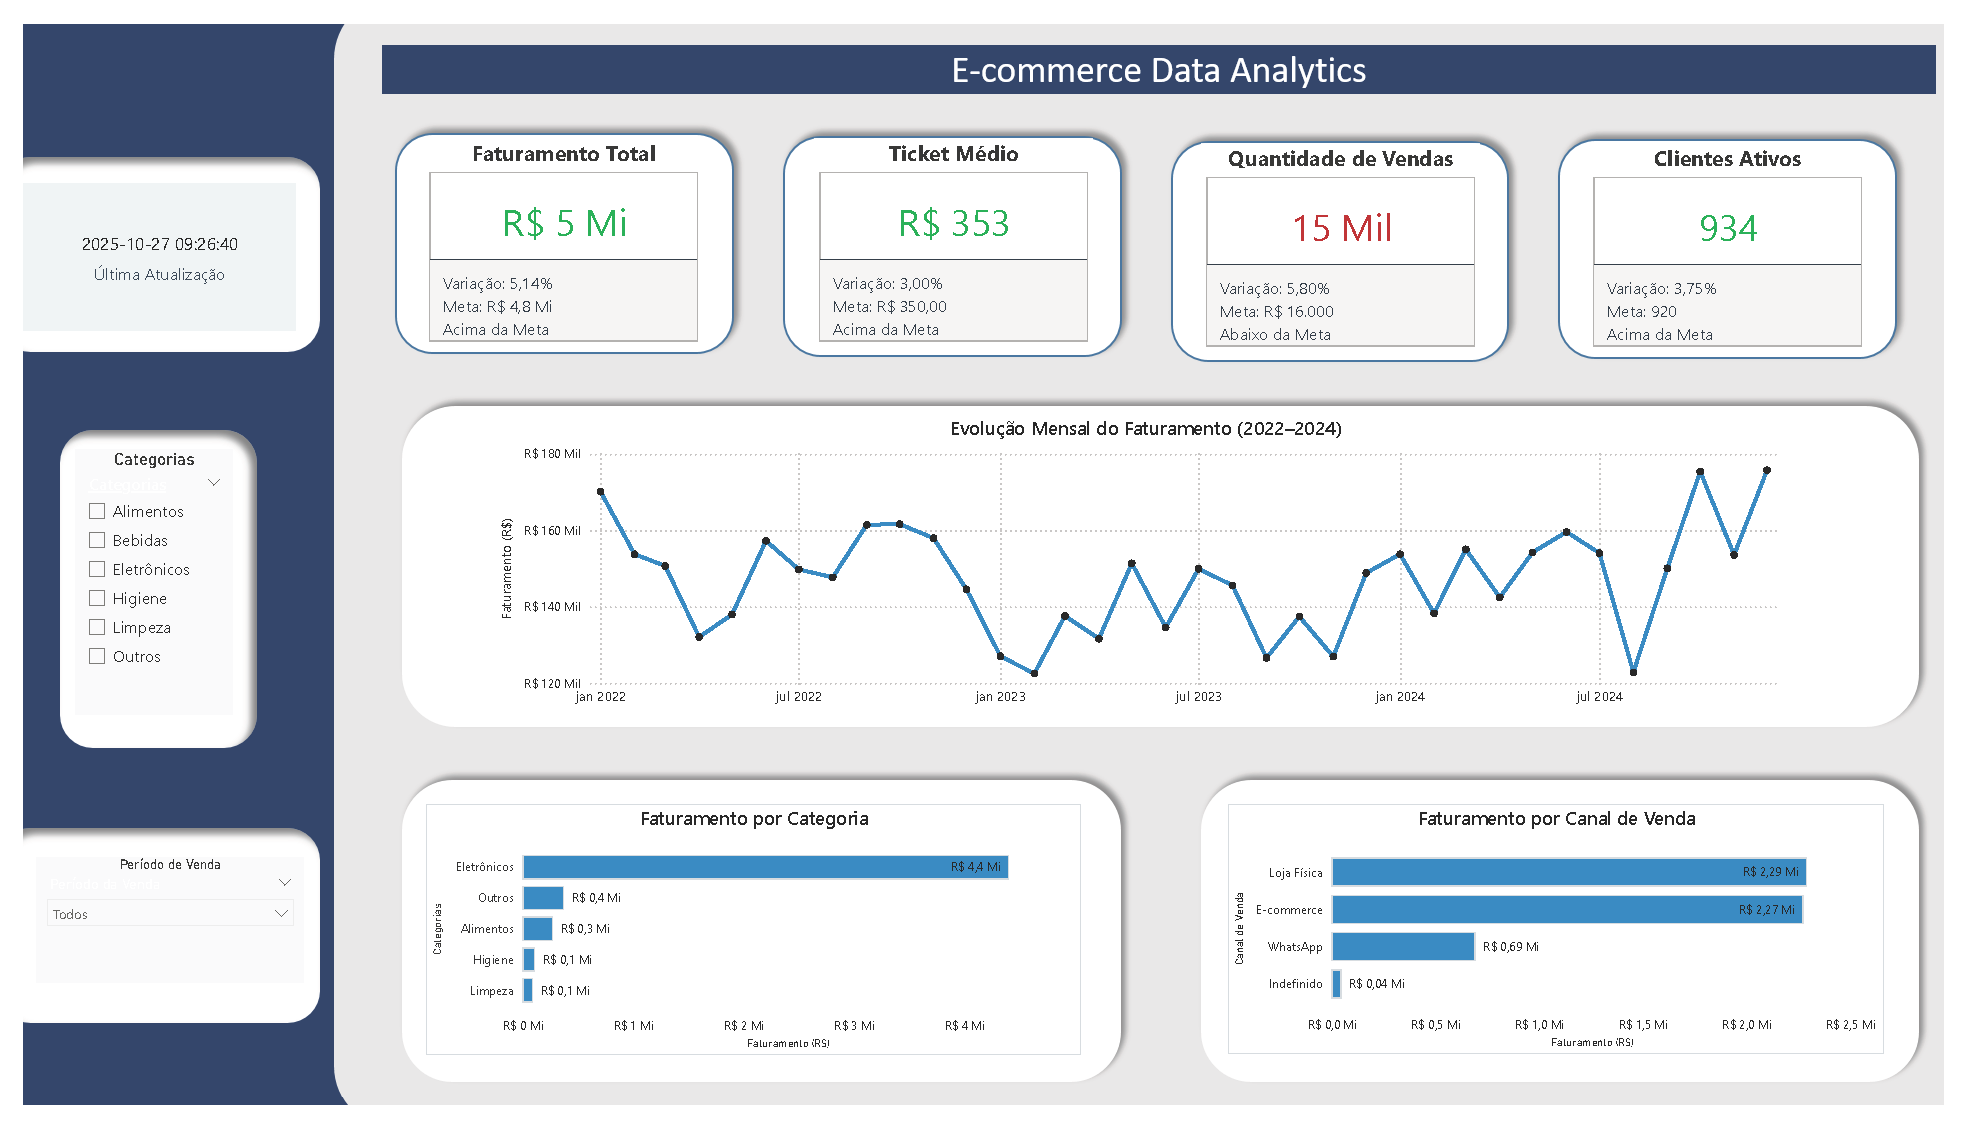

The dashboard page shown, as its layout file describes it:
{"tool":"powerbi","page":{"name":"Visão Geral","canvas":[1920,1080],"ordinal":0},"visuals":[{"type":"card","fields":{"Values":["Tabelas_Medidas.Última Atualização"]},"box":[12.5,152.5,272.5,147.5],"z":2000},{"type":"lineChart","title":"Evolução Mensal do Faturamento (2022–2024)","fields":{"Y":["Tabelas_Medidas.Faturamento Total"],"Category":["vendas.data_venda.Variation.Hierarquia de datas.Ano","vendas.data_venda.Variation.Hierarquia de datas.Mês"]},"box":[527.5,390,1300,300],"z":3000},{"type":"clusteredBarChart","title":"Faturamento por Categoria","fields":{"Category":["produtos.categoria"],"Y":["Tabelas_Medidas.Faturamento Total"]},"box":[394.1,778.4,656,251],"z":4000},{"type":"clusteredBarChart","title":"Faturamento por Canal de Venda","fields":{"Category":["vendas.canal_venda"],"Y":["Tabelas_Medidas.Faturamento Total"]},"box":[1217.6,778.4,656.9,251],"z":5000},{"type":"textbox","box":[0,1030,302.5,40],"z":6000},{"type":"slicer","title":"Período de Venda","fields":{"Values":["vendas.data_venda"]},"box":[12.5,832.5,267.5,125],"z":7000},{"type":"slicer","title":"Categorias","fields":{"Values":["produtos.categoria"]},"box":[57.5,425,157.5,265],"z":8000},{"type":"cardVisual","title":"Faturamento Total","fields":{"Data":["Tabelas_Medidas.Faturamento Total"]},"box":[409,116,278,206],"z":9000},{"type":"cardVisual","title":"Ticket Médio","fields":{"Data":["Tabelas_Medidas.Ticket Médio"]},"box":[798.3,118.3,276.7,205],"z":10000},{"type":"cardVisual","title":"Quantidade de Vendas","fields":{"Data":["Tabelas_Medidas.Quantidade de Vendas"]},"box":[1178,122,278,206],"z":11000},{"type":"cardVisual","title":"Clientes Ativos","fields":{"Data":["Tabelas_Medidas.Clientes Ativos"]},"box":[1570,122,278,206],"z":12000}]}

Visuals, with their boxes in screenshot pixels (x1, y1, x2, y2), scaled from the page's 1920x1080 canvas onto the 1968x1128 screenshot:
card - Tabelas_Medidas.Última Atualização: x1=13 y1=159 x2=292 y2=313
"Evolução Mensal do Faturamento (2022–2024)" lineChart: x1=541 y1=407 x2=1873 y2=721
"Faturamento por Categoria" clusteredBarChart: x1=404 y1=813 x2=1076 y2=1075
"Faturamento por Canal de Venda" clusteredBarChart: x1=1248 y1=813 x2=1921 y2=1075
textbox: x1=0 y1=1076 x2=310 y2=1118
"Período de Venda" slicer: x1=13 y1=870 x2=287 y2=1000
"Categorias" slicer: x1=59 y1=444 x2=220 y2=721
"Faturamento Total" cardVisual: x1=419 y1=121 x2=704 y2=336
"Ticket Médio" cardVisual: x1=818 y1=124 x2=1102 y2=338
"Quantidade de Vendas" cardVisual: x1=1207 y1=127 x2=1492 y2=343
"Clientes Ativos" cardVisual: x1=1609 y1=127 x2=1894 y2=343
